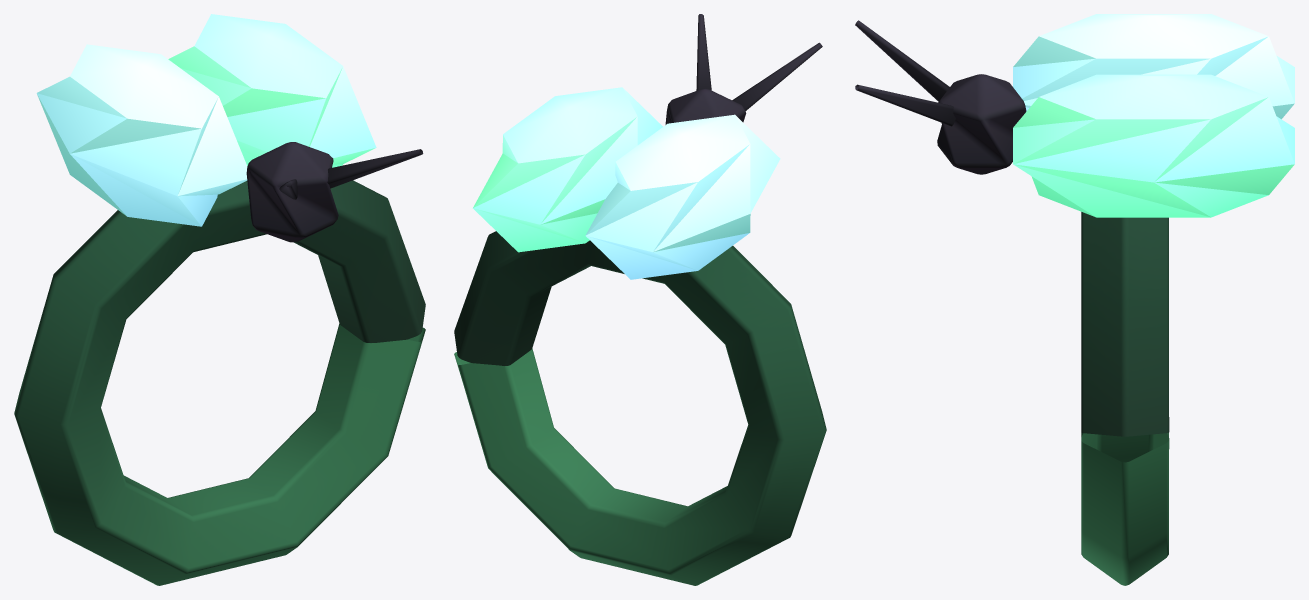
Rendered from lg_beetlewing_ring.glb.
3 renders of one model, left to right at view 1: azimuth 30°, elevation 25°; view 2: azimuth 150°, elevation 25°; view 3: azimuth 270°, elevation 25°, orthographic. The views are drawn at different scales.
Visible parts, largest first — view 1: lg_beetlewing_ring, lg_beetlewing_ring_glow; view 2: lg_beetlewing_ring, lg_beetlewing_ring_glow; view 3: lg_beetlewing_ring_glow, lg_beetlewing_ring.
Boxes of the visible parts, box(x1,y1,x2,y2) form: lg_beetlewing_ring: box(14, 142, 425, 585); lg_beetlewing_ring_glow: box(36, 14, 376, 226); lg_beetlewing_ring: box(454, 14, 826, 585); lg_beetlewing_ring_glow: box(473, 87, 780, 279); lg_beetlewing_ring_glow: box(1013, 14, 1294, 217); lg_beetlewing_ring: box(855, 20, 1169, 585).
Bounding box in the file's own units: 0.494 × 0.586 × 0.4592.
